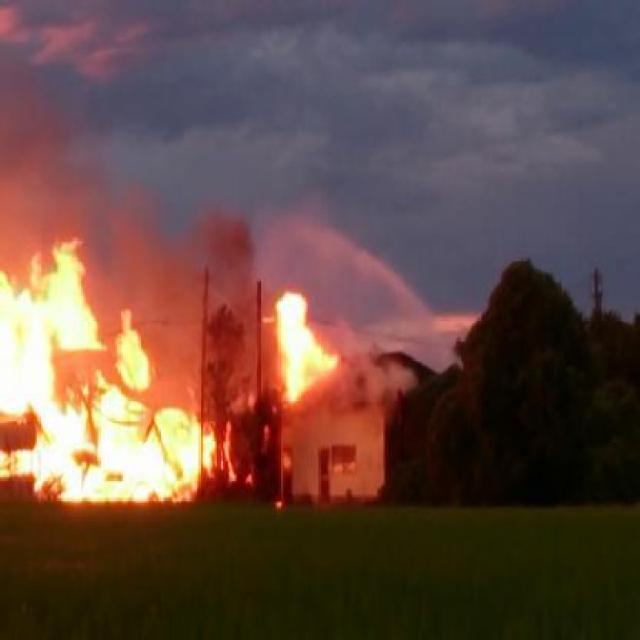Fire: (2, 247, 96, 506), (96, 384, 158, 504), (276, 290, 338, 398), (157, 412, 200, 501), (118, 330, 150, 392), (224, 424, 238, 482), (204, 438, 216, 472)
